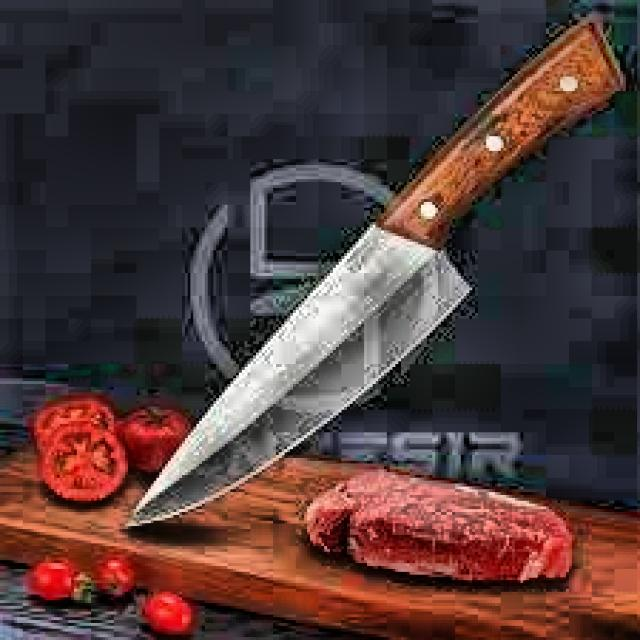knife: (127, 25, 623, 528)
